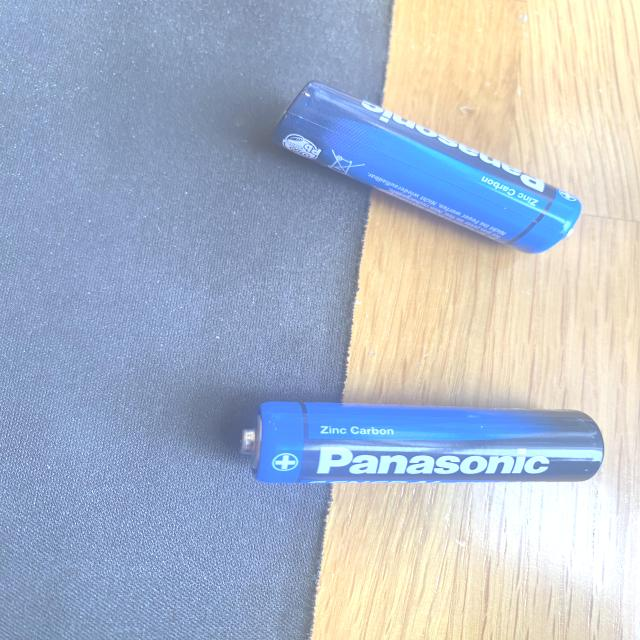AA: (265, 74, 588, 260), (235, 398, 609, 486)
